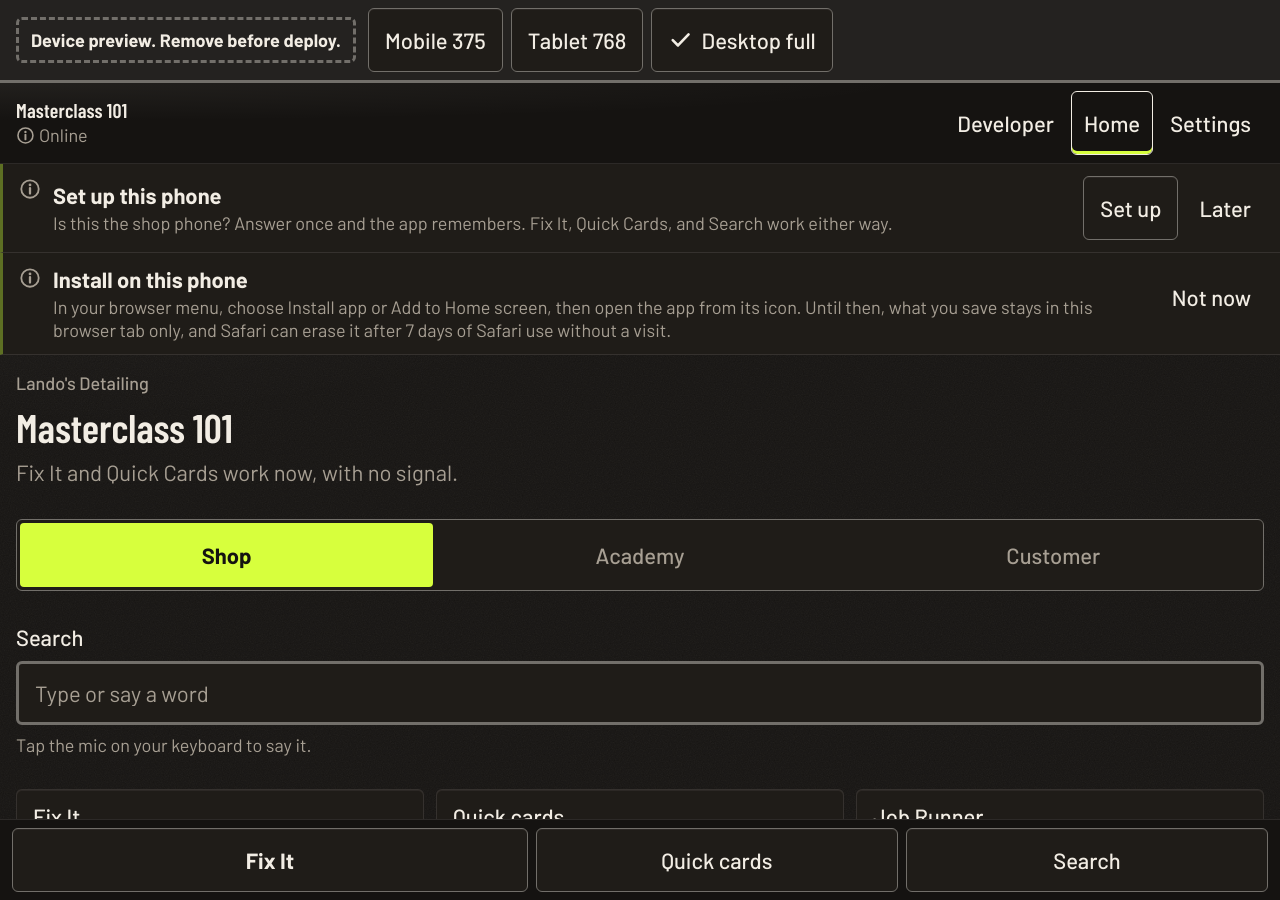
first run (D12) and the notices › the install card shows in a browser tab and Not now hides it
The image size is (1280, 900).
expect the text "Install on this phone" is shown: met, box [53, 266, 248, 292]
Click the button "Not now" at [1211, 297], box [1159, 265, 1264, 329]
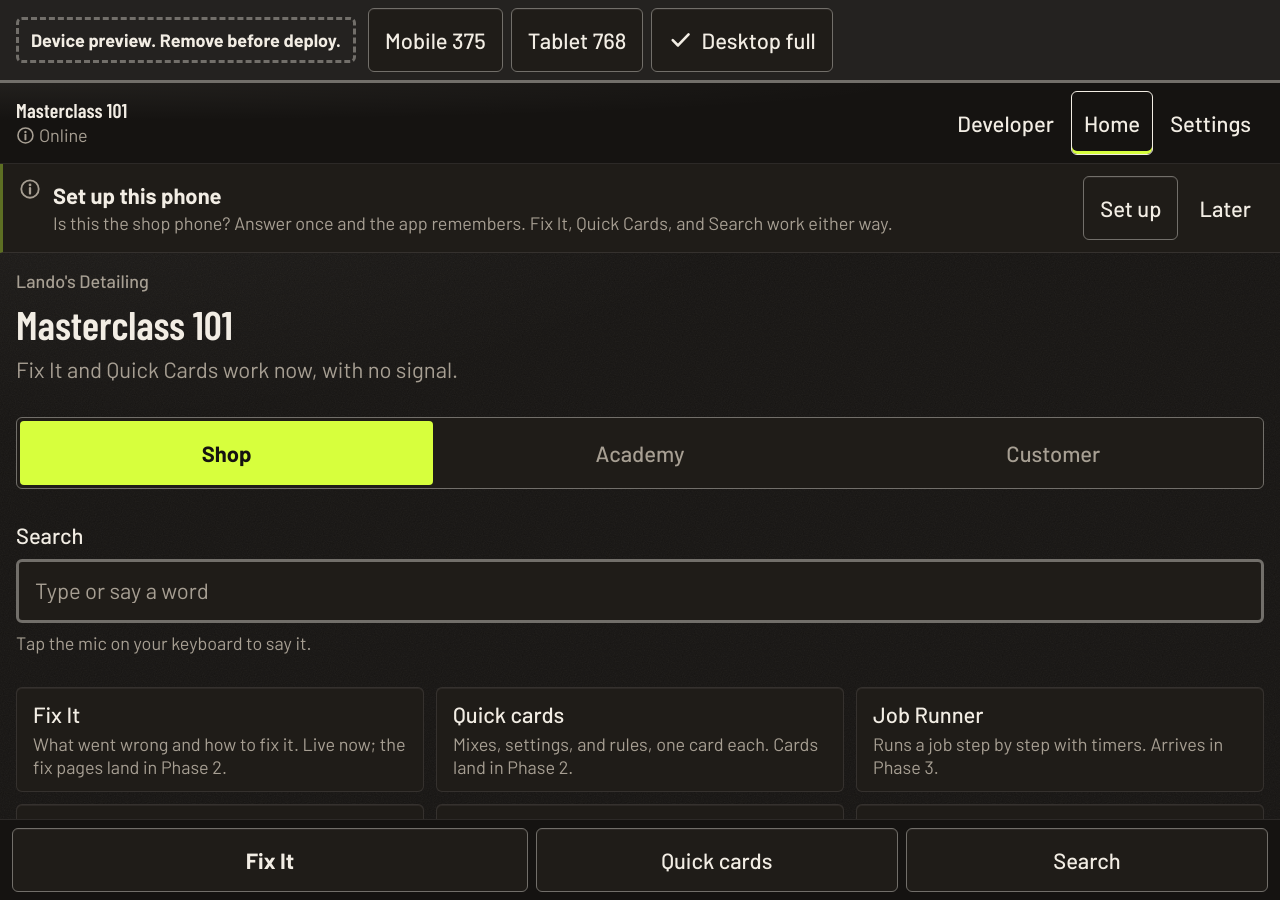
expect the text "Install on this phone" is gone: met
